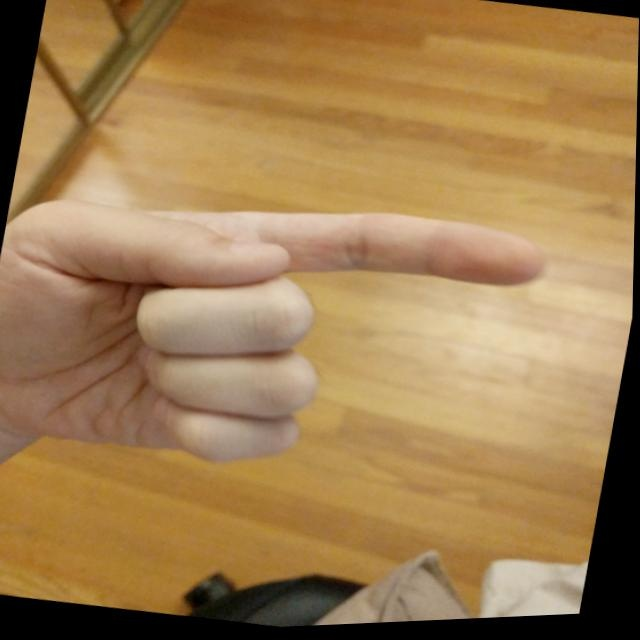G: (0, 143, 571, 530)
